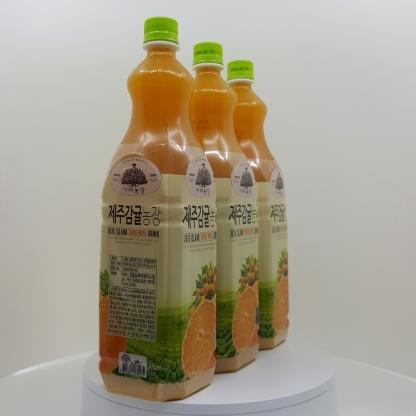------------1-5L: (98, 17, 217, 401)
